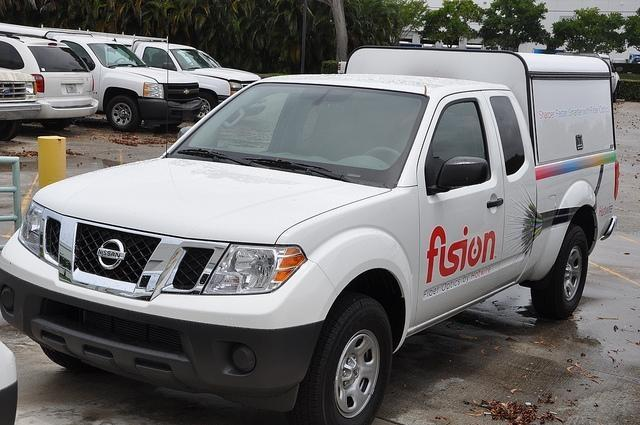car: (46, 32, 201, 132), (134, 40, 255, 118), (1, 32, 100, 120), (0, 67, 42, 141)
truck: (1, 21, 618, 420)
